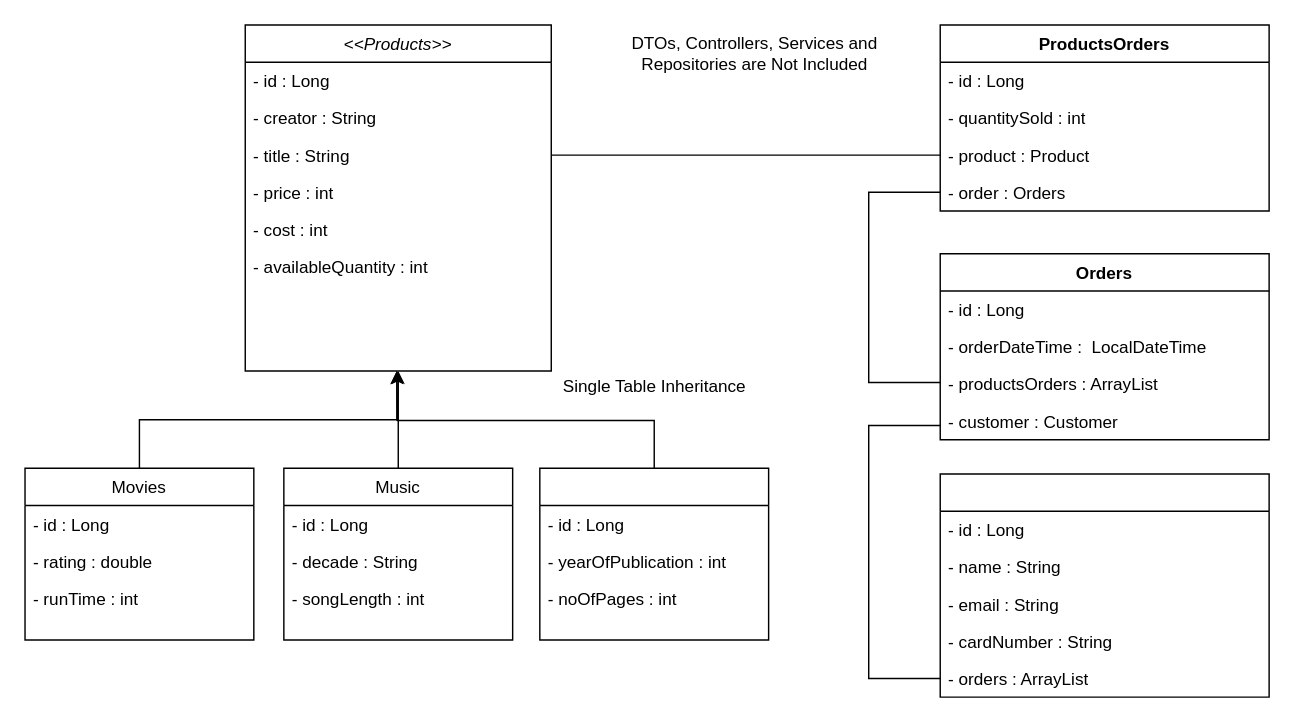
This 1294x726 diagram has some shape labels left out. The shapes that lost their labels are listed below. From the top down, each one's box as (x1, y1, x2, y2) in pixels, then its label:
(538, 467, 769, 640): Books
(939, 473, 1269, 697): Customer
